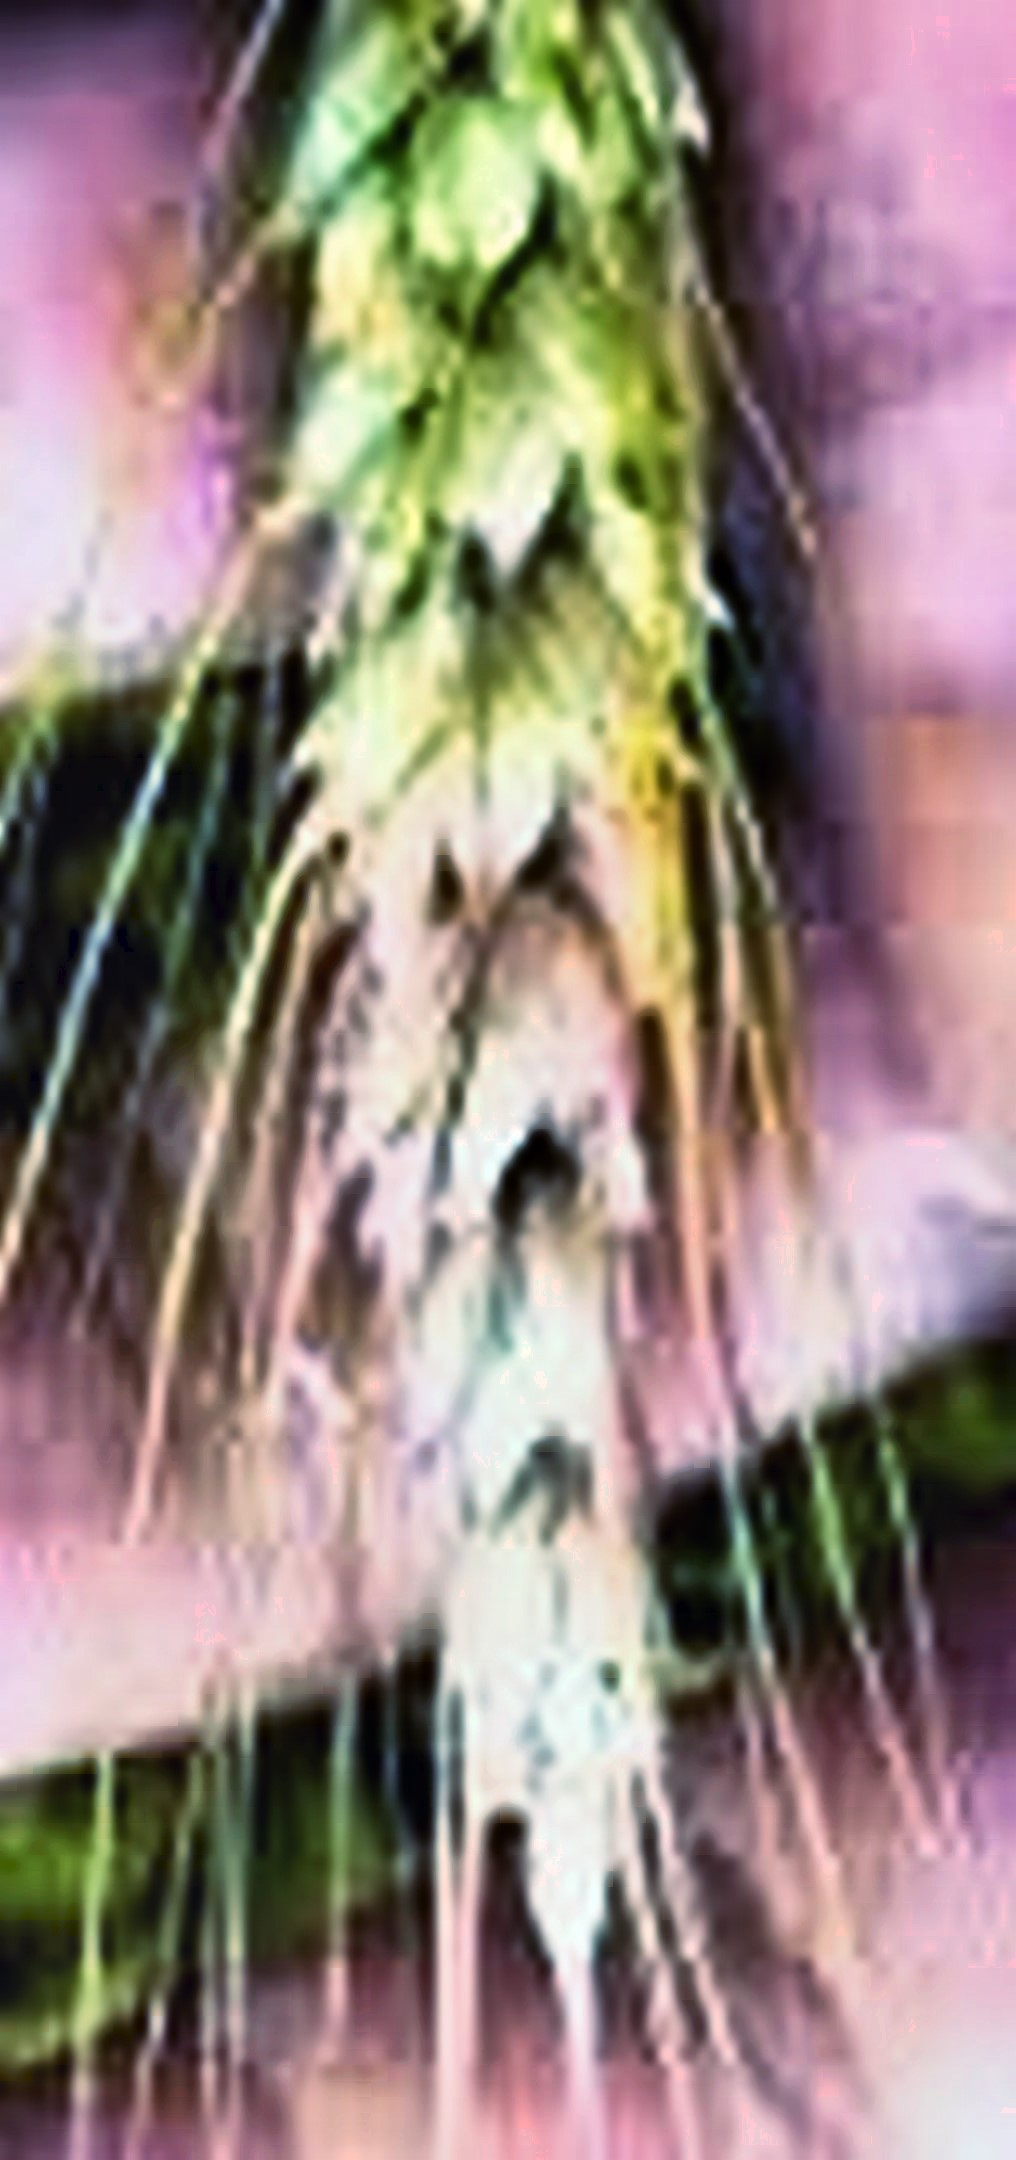Wheat scab: (253, 33, 792, 1922)
